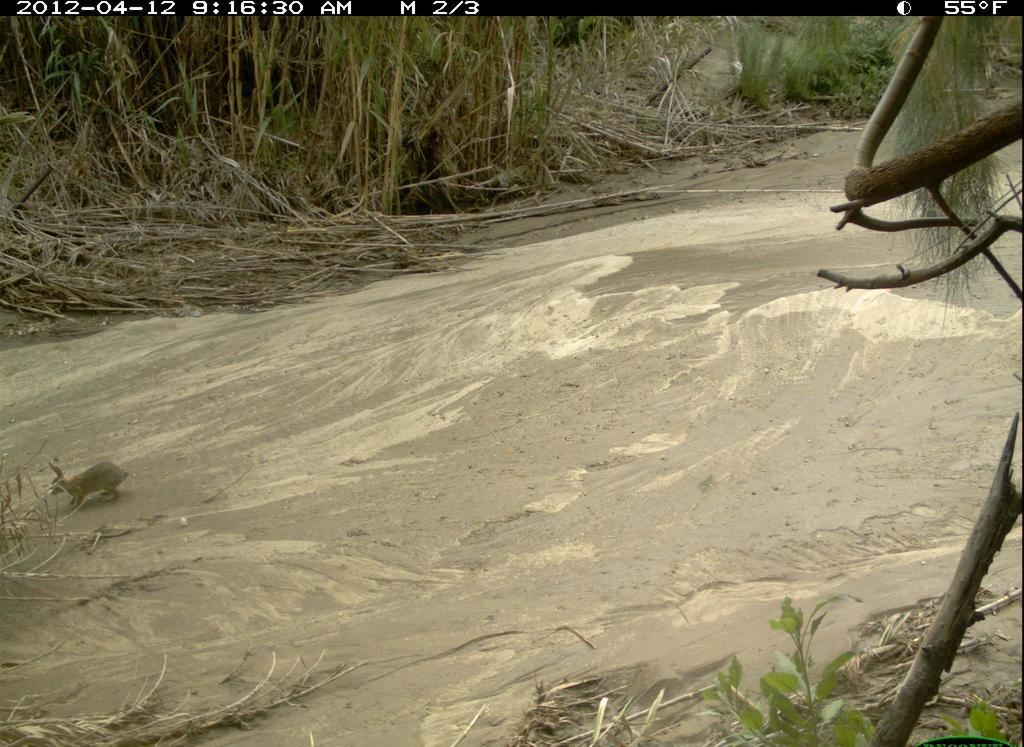rabbit: (43, 452, 136, 516)
